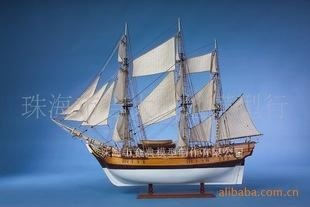fanchuan: (49, 17, 268, 191)
